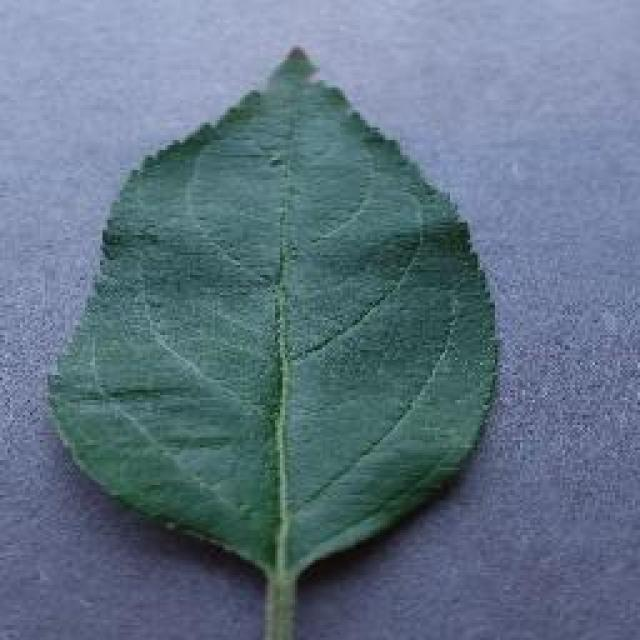apple healthy: (42, 42, 502, 638)
